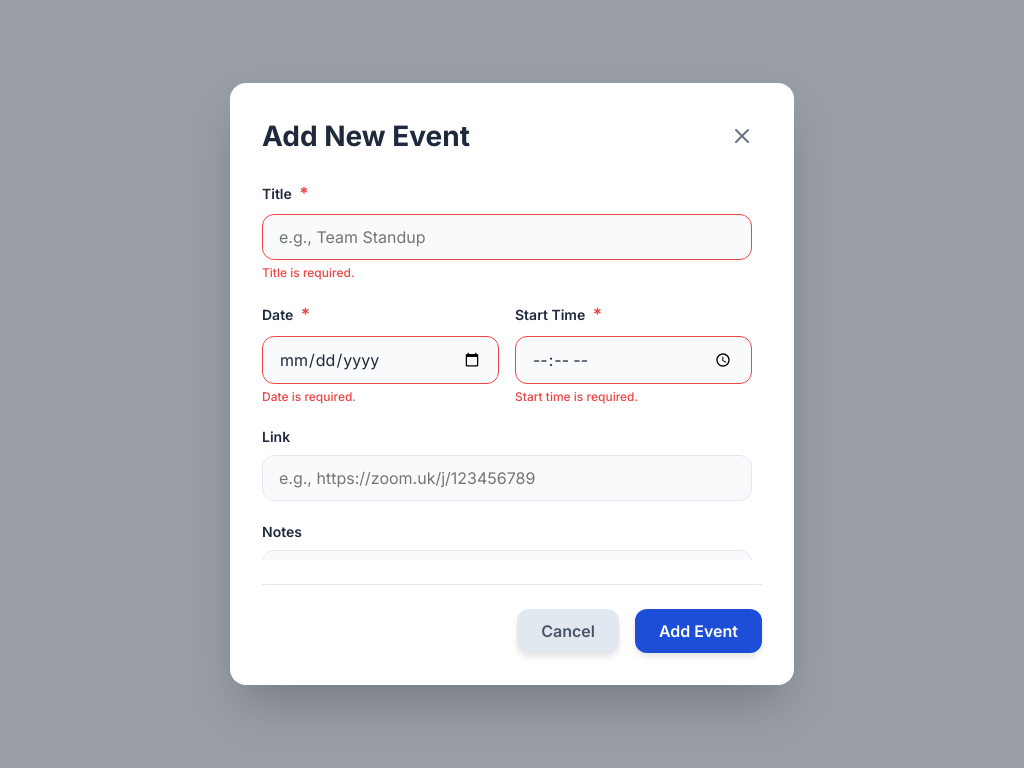
Test case: AddEventModal › shows validation errors for required fields
Click the button "Add Event": x=698, y=631 [635, 609, 762, 653]
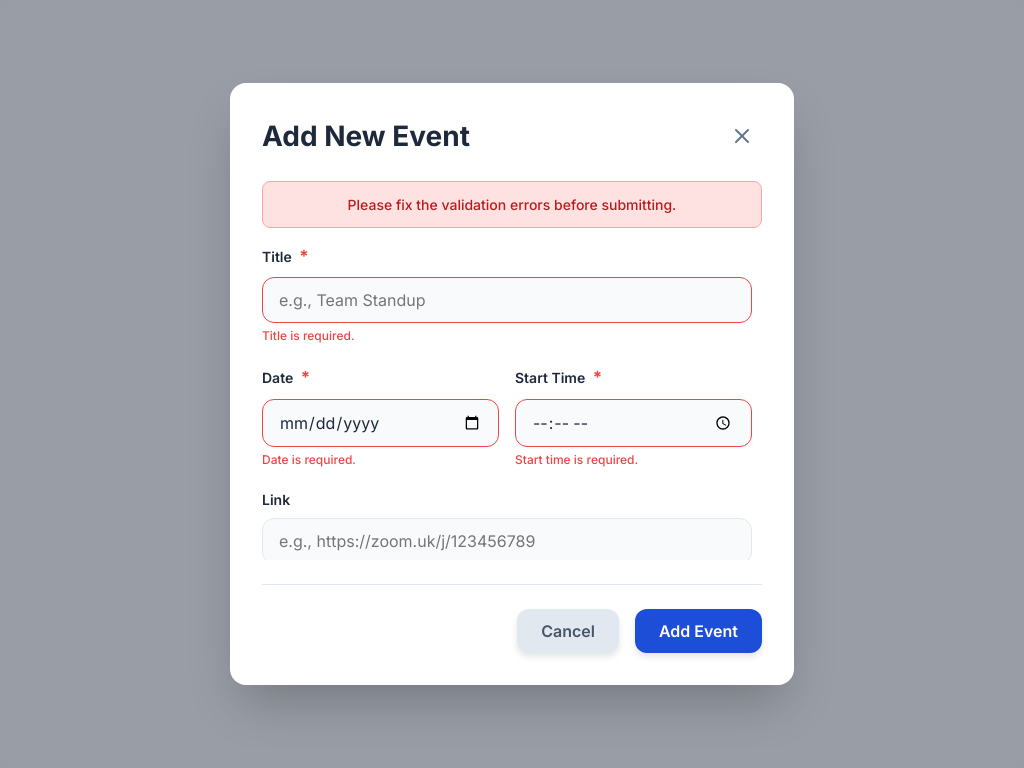
Expected: the text "Title is required." is shown, [262, 328, 354, 343]
Expected: the text "Please fix the validation errors before submitting." is shown, [262, 181, 762, 228]
